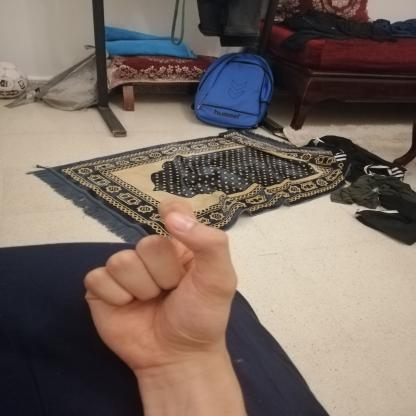FAA: (67, 188, 254, 380)
